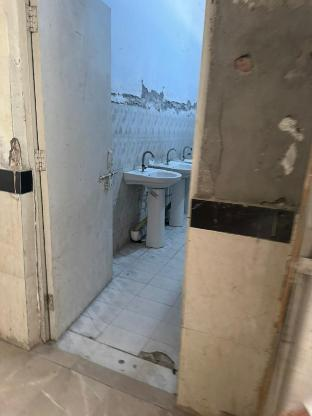door: (19, 0, 224, 401)
